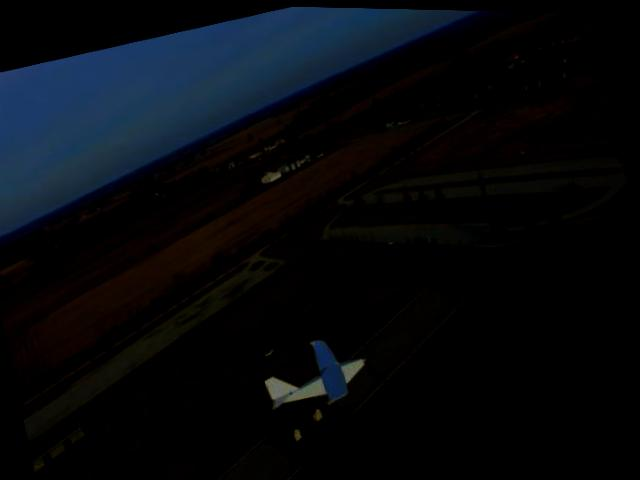uav: (245, 314, 390, 440)
